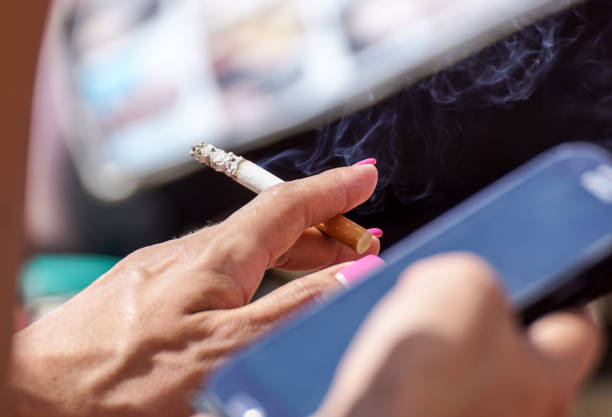cigarette: (190, 140, 372, 254)
